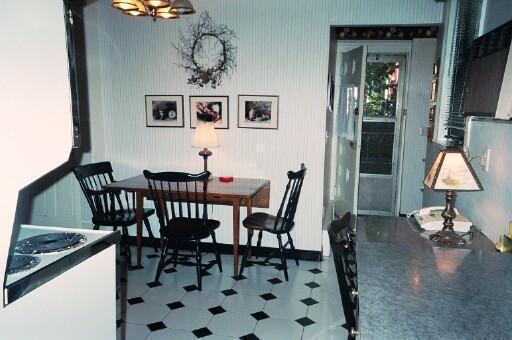Electrodomestico: (2, 2, 123, 337)
